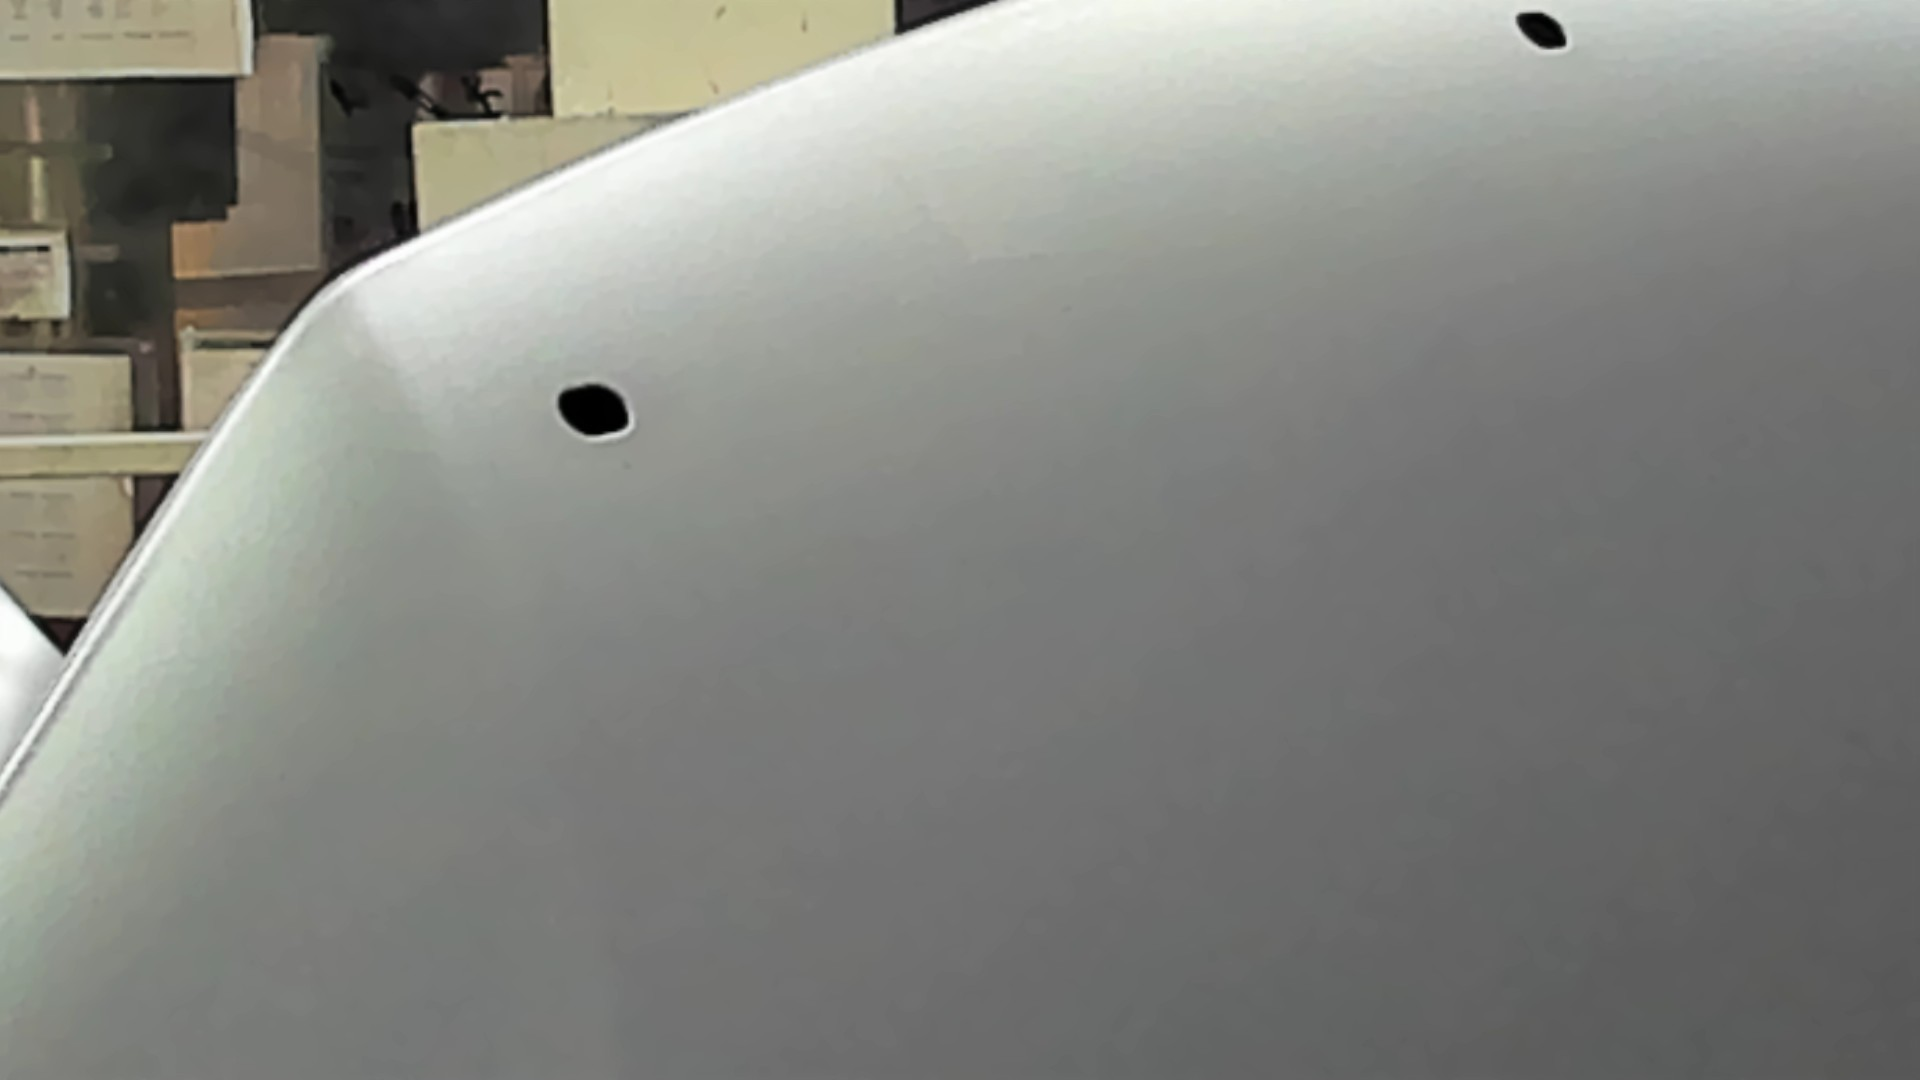amorfo: (551, 378, 638, 444), (1510, 9, 1575, 55)
capo: (749, 127, 1920, 1080)
